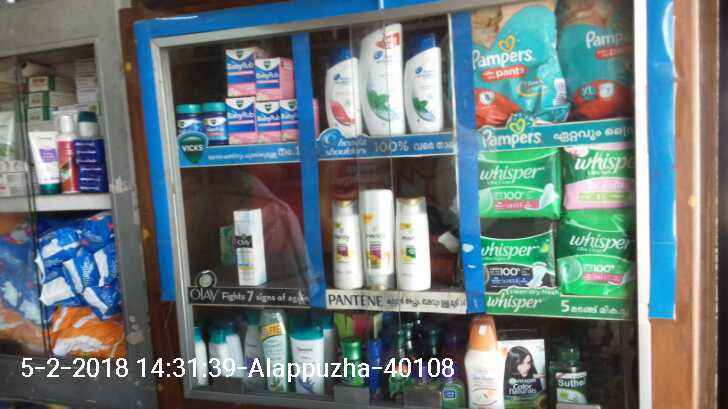vicks: (227, 41, 300, 144), (176, 105, 227, 144)
